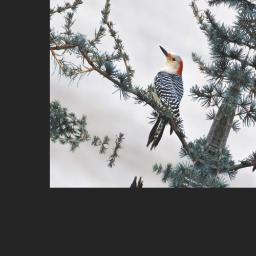Woodpecker: (125, 45, 199, 156)
